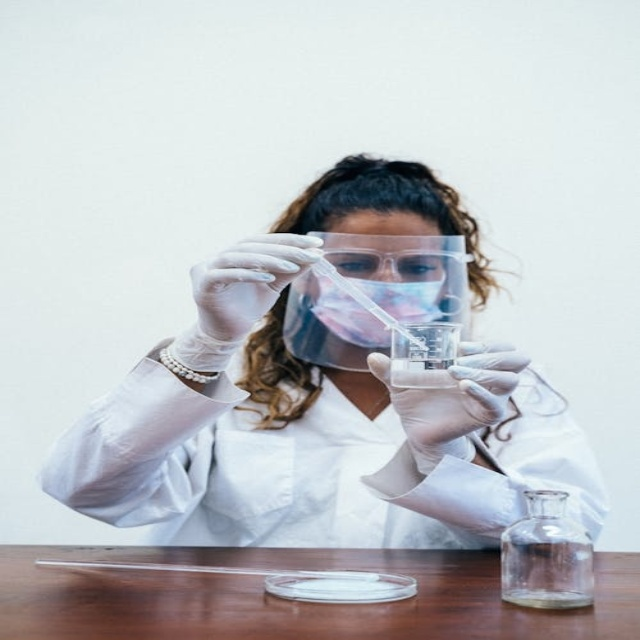Gafas: (310, 242, 472, 280)
Guantes: (170, 231, 331, 371), (364, 343, 527, 481)
Mascara: (306, 276, 457, 351)
